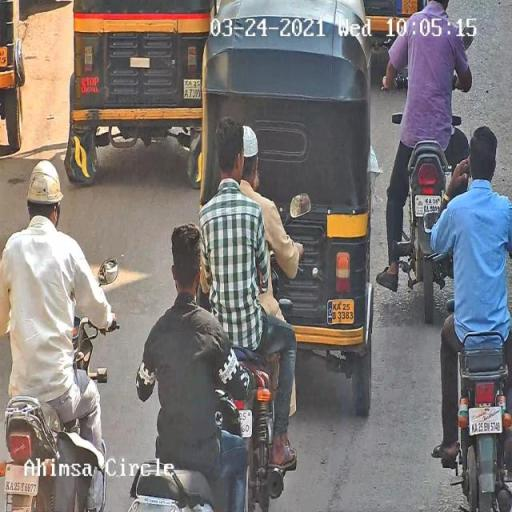numberplate: (469, 406, 504, 435)
using mobile: (462, 150, 472, 190)
